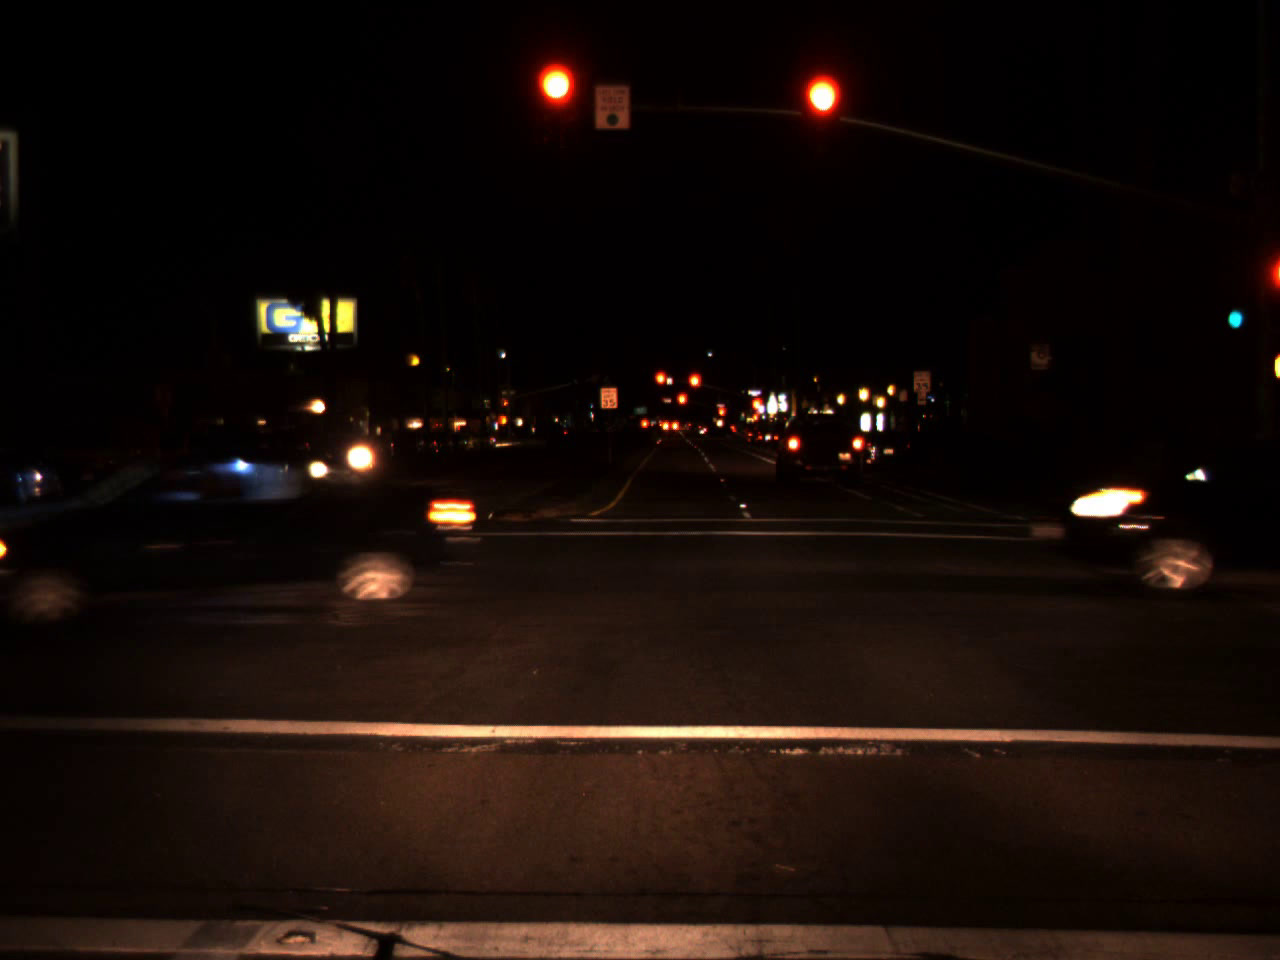stop: (536, 65, 577, 143), (801, 75, 840, 153), (686, 371, 702, 403), (653, 369, 668, 401), (676, 391, 688, 418), (717, 405, 729, 429), (750, 396, 763, 412), (503, 398, 509, 414)
